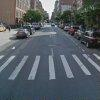Crosswalk: (6, 42, 100, 86)
